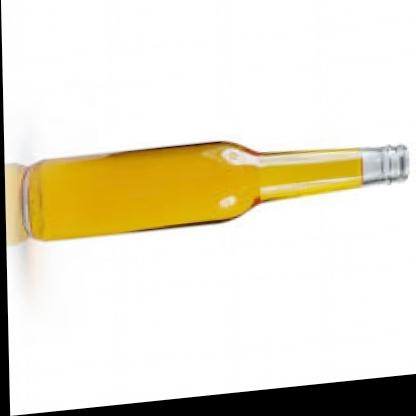trash: (6, 142, 408, 242)
